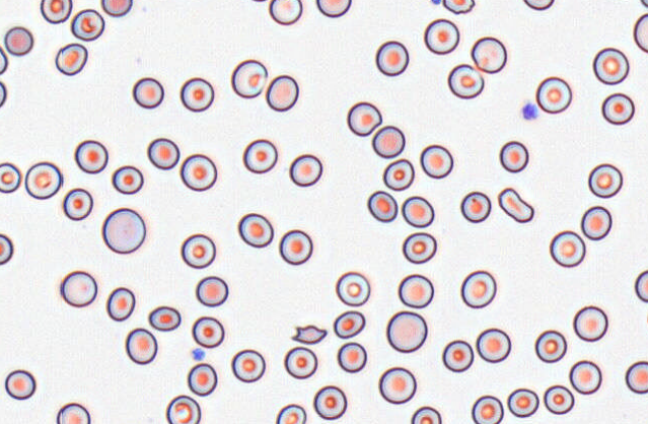PLT: (521, 100, 540, 120), (190, 347, 208, 361), (429, 0, 443, 9)
RBC: (101, 207, 146, 254), (385, 310, 427, 353), (378, 366, 416, 404), (24, 161, 62, 199), (230, 59, 267, 98), (180, 153, 217, 191), (59, 270, 97, 307), (592, 47, 629, 85), (470, 36, 507, 73), (535, 76, 572, 113), (460, 270, 496, 308), (447, 63, 484, 99), (549, 230, 585, 267), (572, 305, 608, 342), (475, 327, 511, 363), (237, 212, 273, 248), (180, 233, 216, 269), (423, 18, 459, 54), (346, 101, 382, 136), (397, 273, 433, 308), (265, 74, 299, 111), (312, 385, 347, 420), (335, 271, 370, 306), (242, 138, 277, 173), (179, 77, 214, 112), (278, 229, 312, 265), (419, 144, 453, 179), (74, 139, 108, 174), (588, 163, 622, 198), (375, 40, 408, 76), (125, 327, 157, 364), (231, 348, 265, 382), (401, 231, 436, 264), (371, 125, 405, 158), (283, 346, 317, 379), (534, 329, 567, 363), (70, 8, 104, 41), (601, 92, 635, 125), (569, 359, 601, 394), (580, 205, 612, 240), (191, 315, 224, 348), (289, 153, 322, 186), (382, 158, 414, 191), (441, 339, 473, 372), (401, 195, 434, 227), (55, 42, 87, 75), (147, 137, 179, 170), (132, 76, 164, 109), (165, 394, 201, 423), (195, 275, 228, 306), (62, 187, 93, 220), (187, 362, 217, 396), (106, 286, 135, 321), (4, 369, 36, 400), (336, 341, 367, 373), (460, 191, 491, 223), (506, 387, 539, 417), (367, 190, 397, 222), (543, 384, 574, 414), (111, 165, 143, 194), (499, 140, 528, 172), (333, 310, 365, 338), (471, 395, 503, 423), (148, 305, 181, 331), (268, 0, 302, 25), (4, 26, 33, 55), (625, 360, 647, 394), (40, 0, 72, 23), (56, 402, 90, 423), (0, 161, 21, 193), (275, 403, 306, 423), (315, 0, 351, 17), (633, 13, 648, 53), (410, 405, 441, 423), (101, 0, 132, 17), (442, 0, 475, 14), (634, 269, 648, 302), (0, 233, 13, 265), (523, 0, 554, 10), (0, 45, 8, 74), (0, 80, 7, 107), (640, 0, 648, 8), (249, 0, 268, 2)
Schistocyte: (497, 186, 534, 224), (291, 324, 330, 345)
